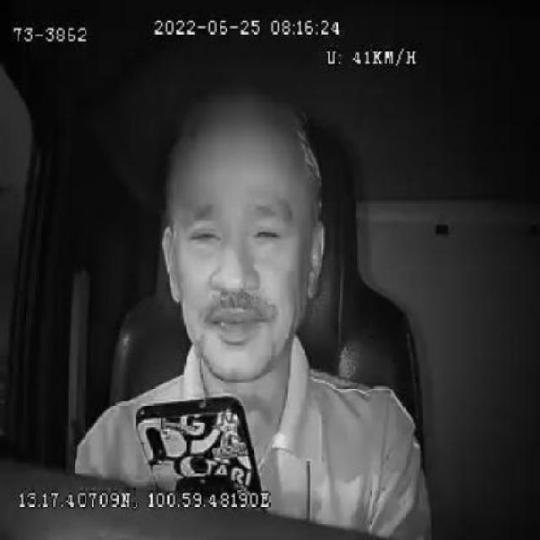phone: (136, 394, 266, 493)
